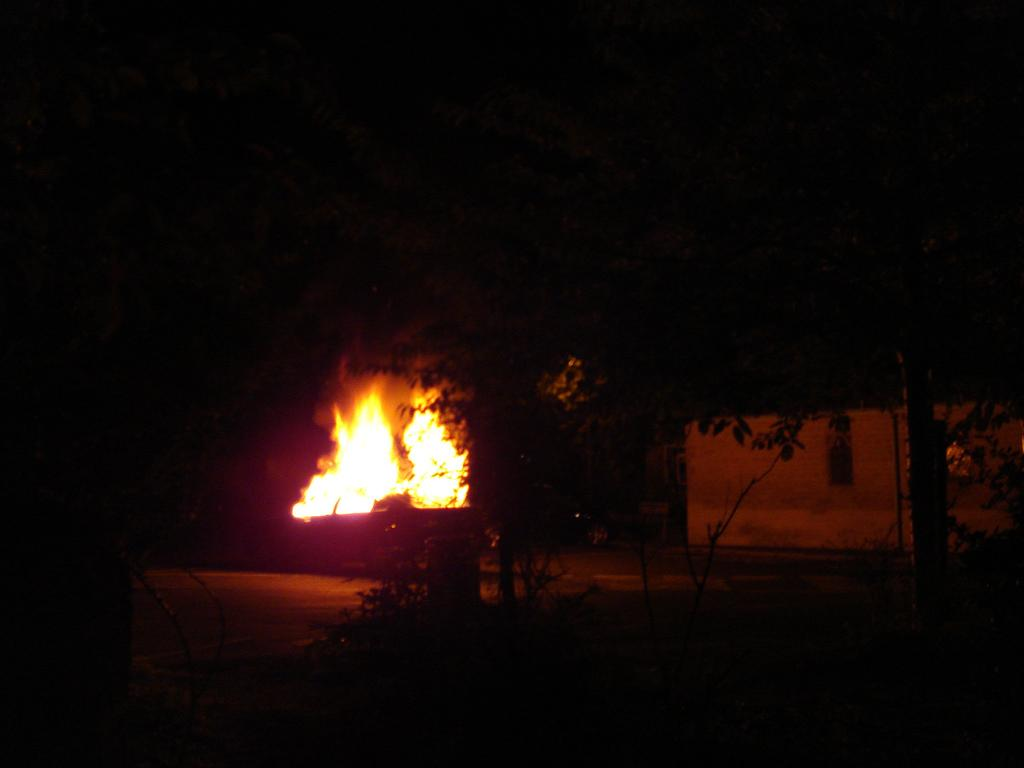fire: (412, 432, 460, 506), (346, 424, 396, 472), (314, 470, 372, 510)
